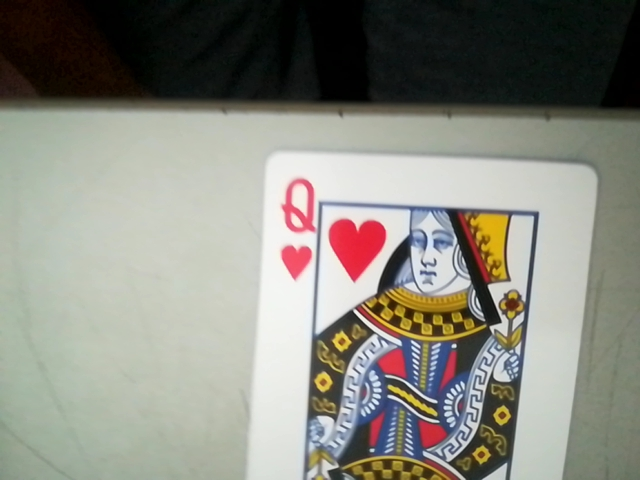hx q: (278, 175, 315, 284)
